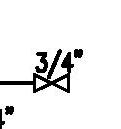valve: (32, 47, 73, 93)
